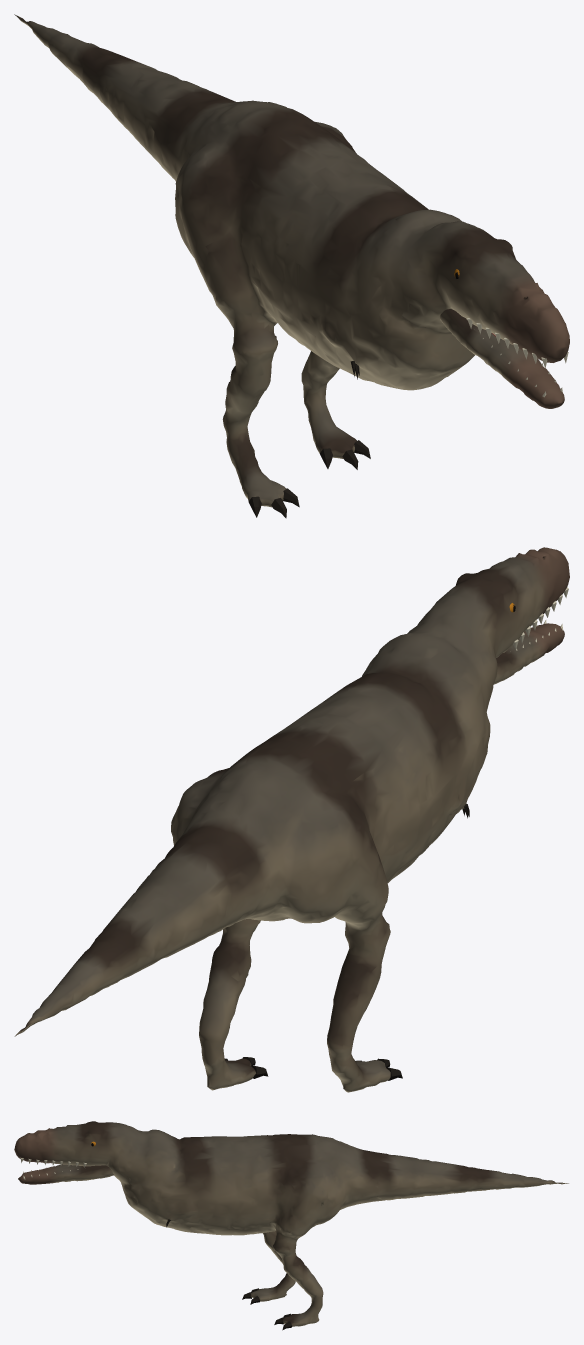
The model's file is Giganotosaurus.fbx.
3 renders of one model, top to bottom at view 1: azimuth 30°, elevation 25°; view 2: azimuth 150°, elevation 25°; view 3: azimuth 270°, elevation 25°, orthographic. The views are drawn at different scales.
Parts seen in each view (by area): view 1: Giganotosaurus; view 2: Giganotosaurus; view 3: Giganotosaurus.
Part boxes in pixels (left/top/right/bottom): Giganotosaurus: left=14, top=14, right=569, bottom=518; Giganotosaurus: left=14, top=547, right=569, bottom=1092; Giganotosaurus: left=14, top=1121, right=568, bottom=1330.
Bounding box in the file's own units: 0.3926 × 0.7787 × 2.08.
